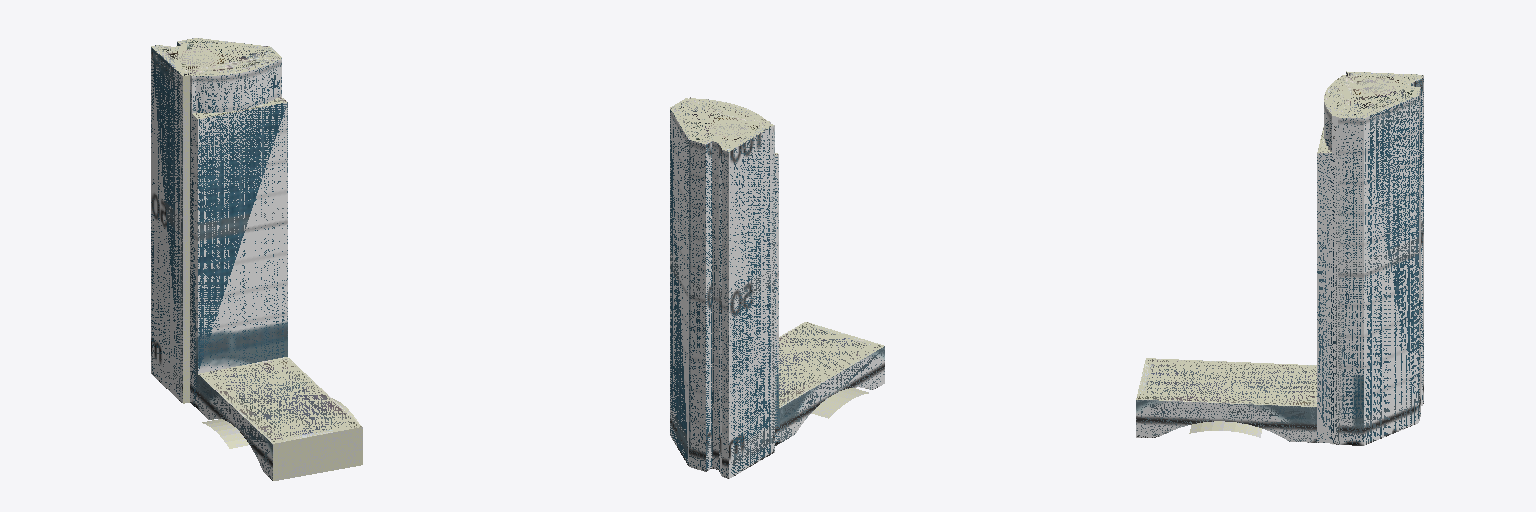
3 renders of one model, left to right at view 1: azimuth 30°, elevation 25°; view 2: azimuth 150°, elevation 25°; view 3: azimuth 270°, elevation 25°, orthographic.
Parts seen in each view (by area): view 1: mesh1_mesh1-geometry; view 2: mesh1_mesh1-geometry; view 3: mesh1_mesh1-geometry.
Part boxes in pixels (x1,y1,x2,y2): mesh1_mesh1-geometry: (151, 38, 362, 480); mesh1_mesh1-geometry: (670, 97, 884, 478); mesh1_mesh1-geometry: (1136, 71, 1423, 445).
Bounding box in the file's own units: 0.306 × 0.747 × 0.5903.
5 materials, 3 textured.